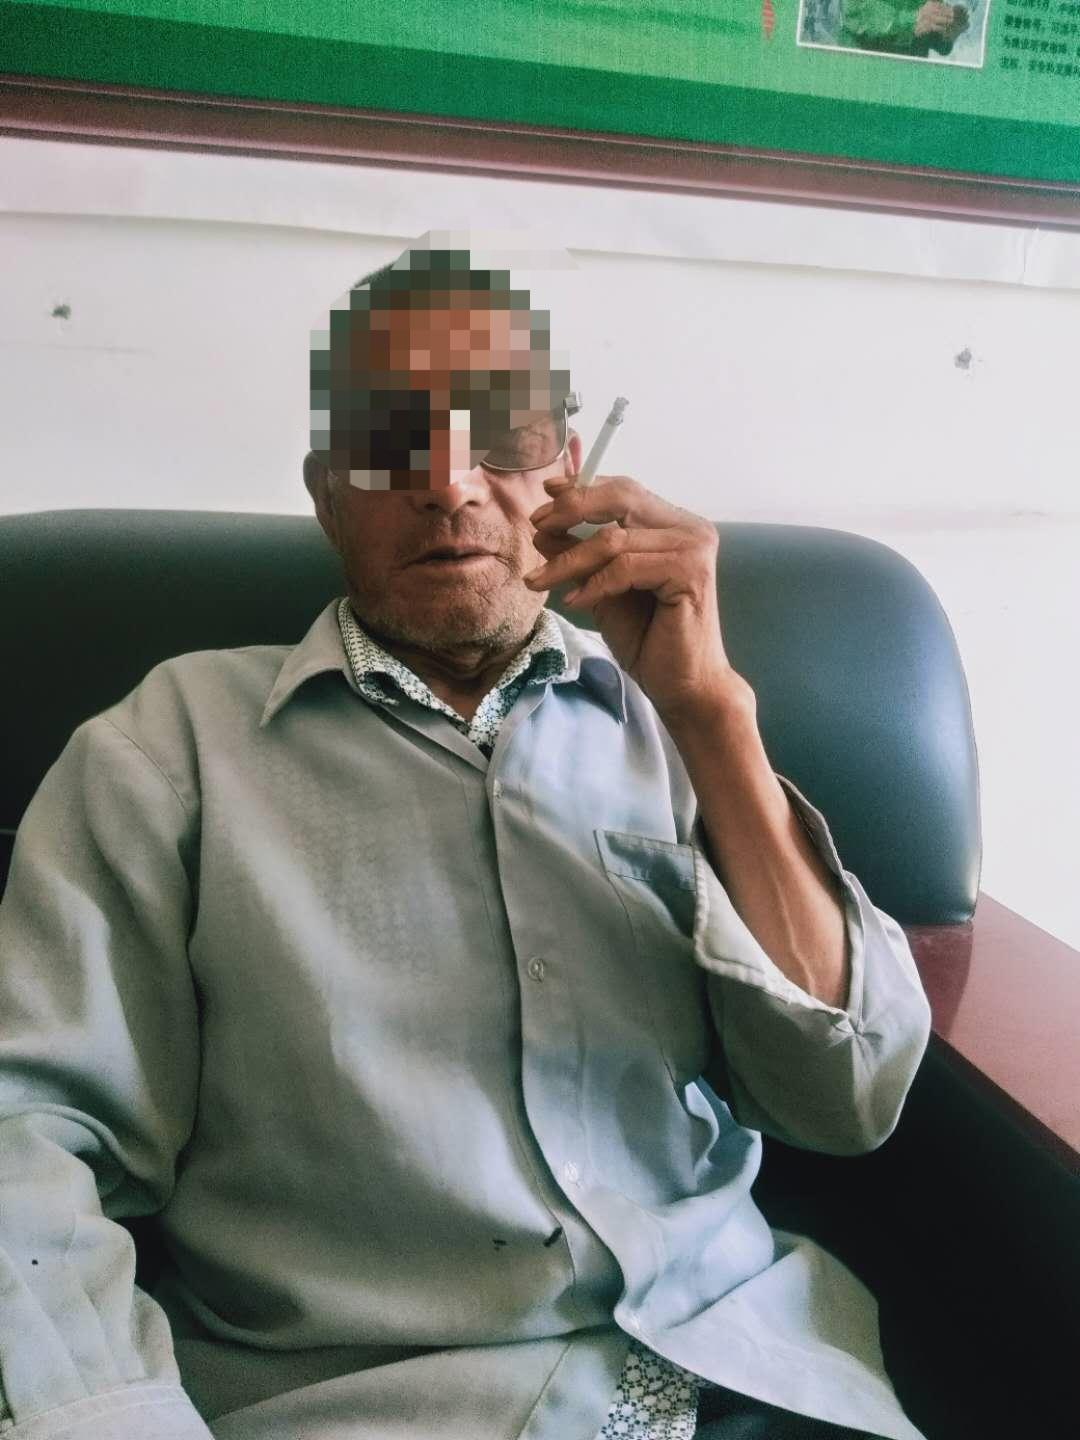smoke: (576, 393, 634, 493)
